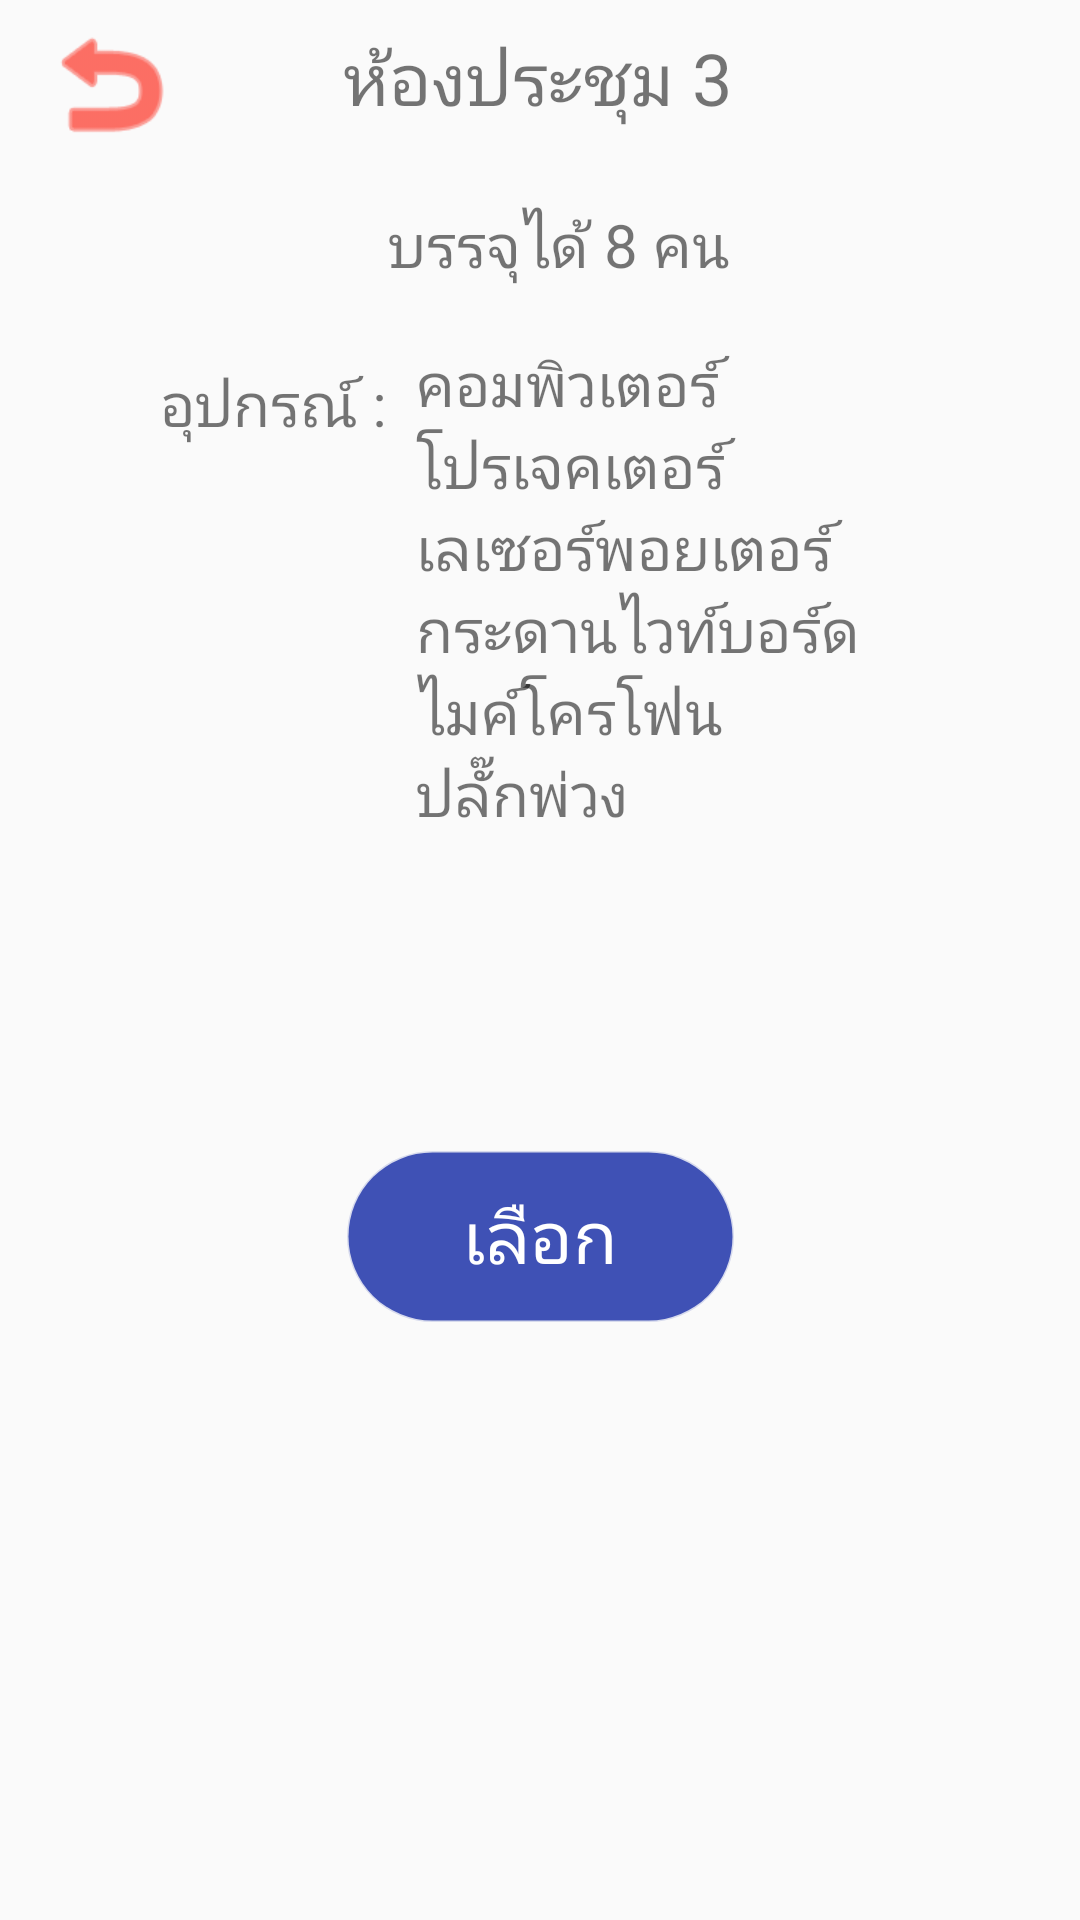

Where icons sit on this 1080*1920 app screen, as BBox(x1, y1, x2, y2):
revert: BBox(61, 38, 163, 132)
